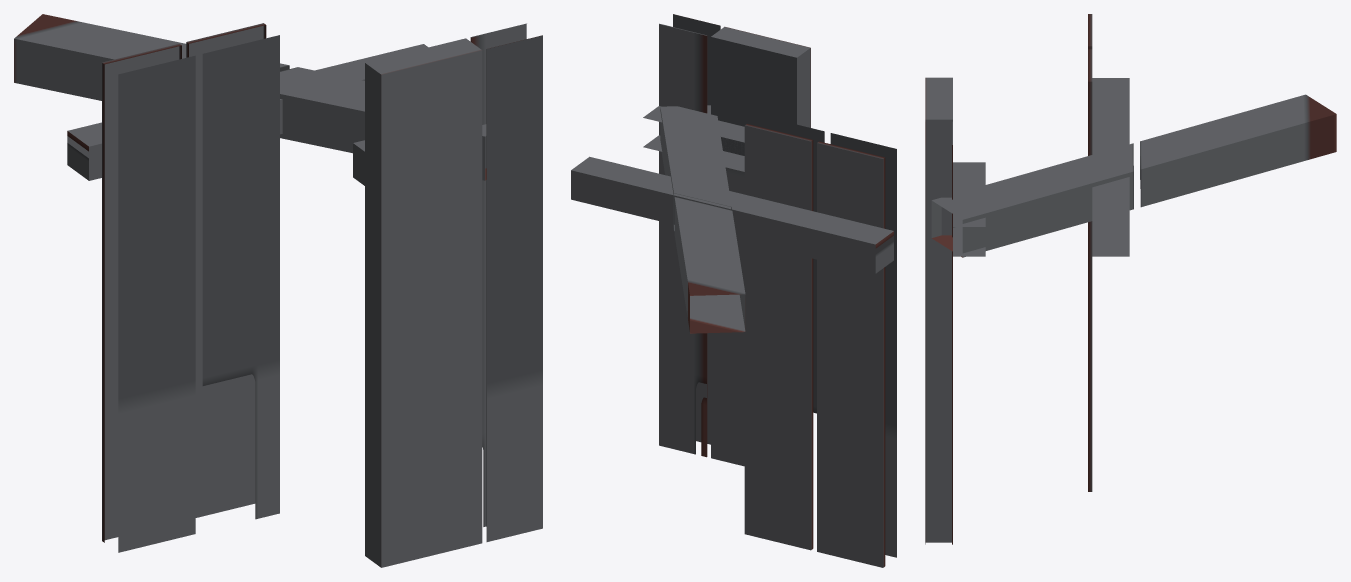
File: section-4.obj
3 views of the same model, side by side, from view 1: azimuth 30°, elevation 25°; view 2: azimuth 150°, elevation 25°; view 3: azimuth 270°, elevation 25° (orthographic). The views are drawn at different scales.
Bounding box in the file's own units: 0.76 × 1 × 0.8864.
